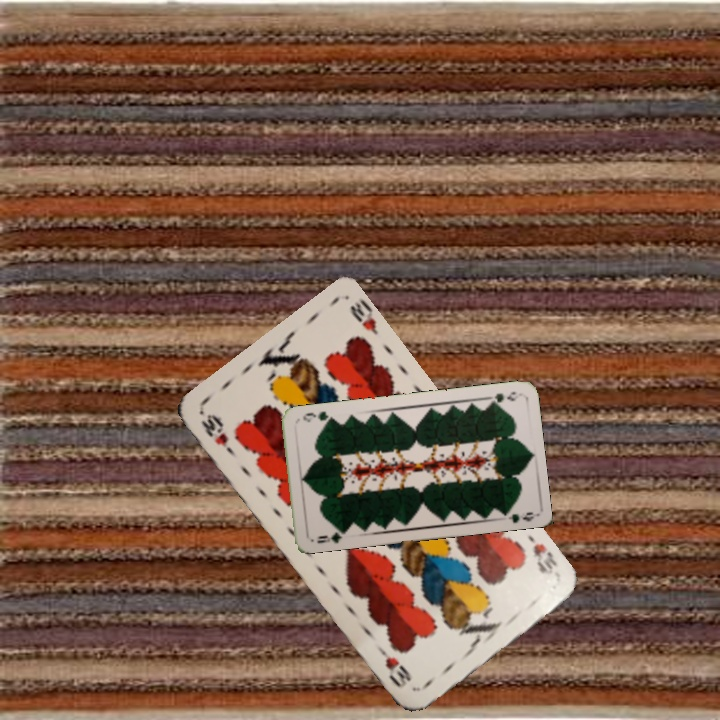G9: (312, 526, 348, 546), (482, 388, 519, 407)
H10: (196, 410, 238, 459), (524, 531, 560, 578)
